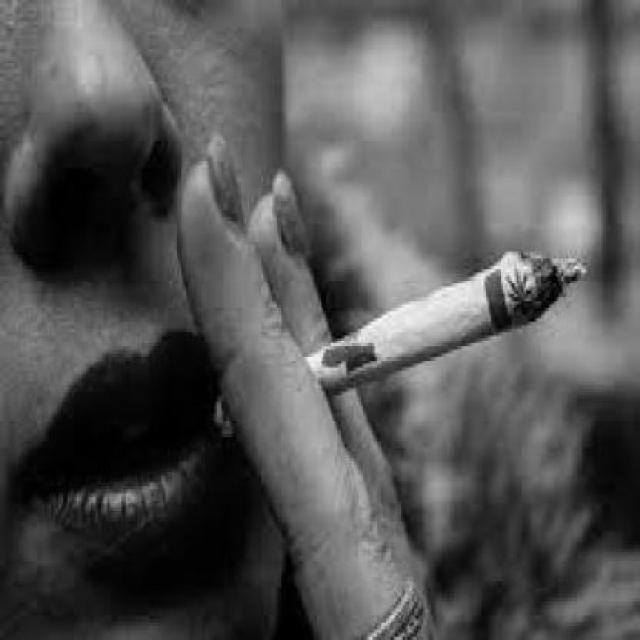cigarette: (322, 245, 589, 392)
